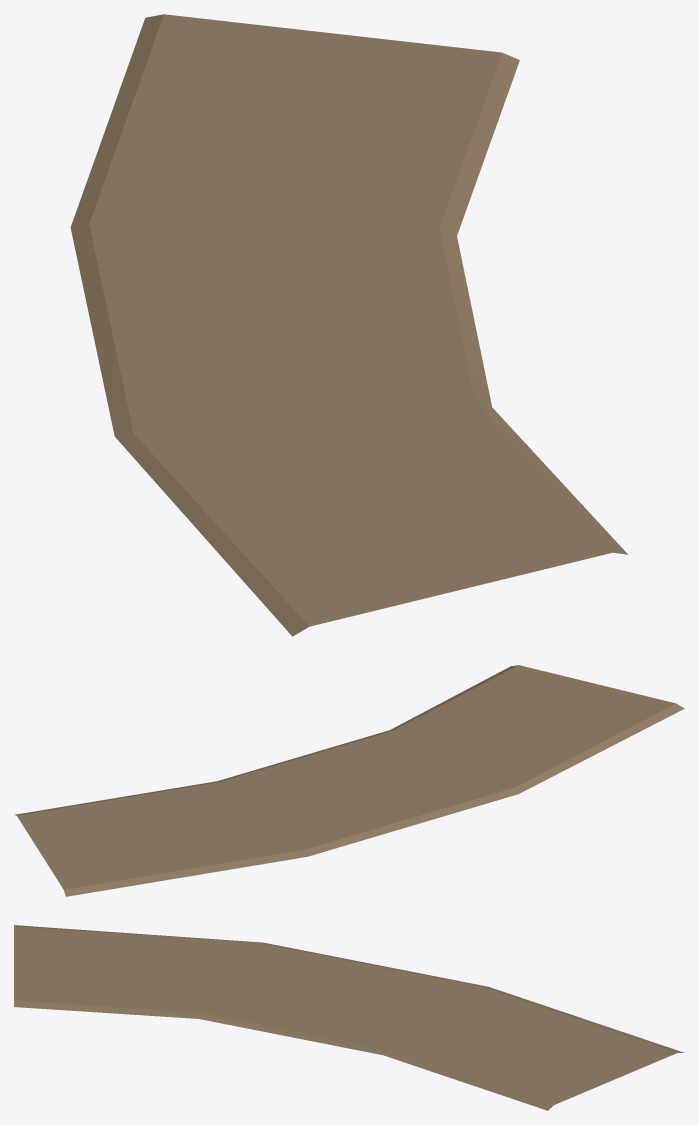
The model's file is DirtRoad.fbx.
3 renders of one model, top to bottom at view 1: azimuth 30°, elevation 25°; view 2: azimuth 150°, elevation 25°; view 3: azimuth 270°, elevation 25°, orthographic. The views are drawn at different scales.
Parts seen in each view (by area): view 1: DirtRoad; view 2: DirtRoad; view 3: DirtRoad.
Boxes of the visible parts, bbox=[...] form: DirtRoad: bbox=[70, 14, 627, 636]; DirtRoad: bbox=[14, 665, 684, 896]; DirtRoad: bbox=[14, 925, 684, 1110].
Size of the model in its own units: 26870 by 197 by 41019.
